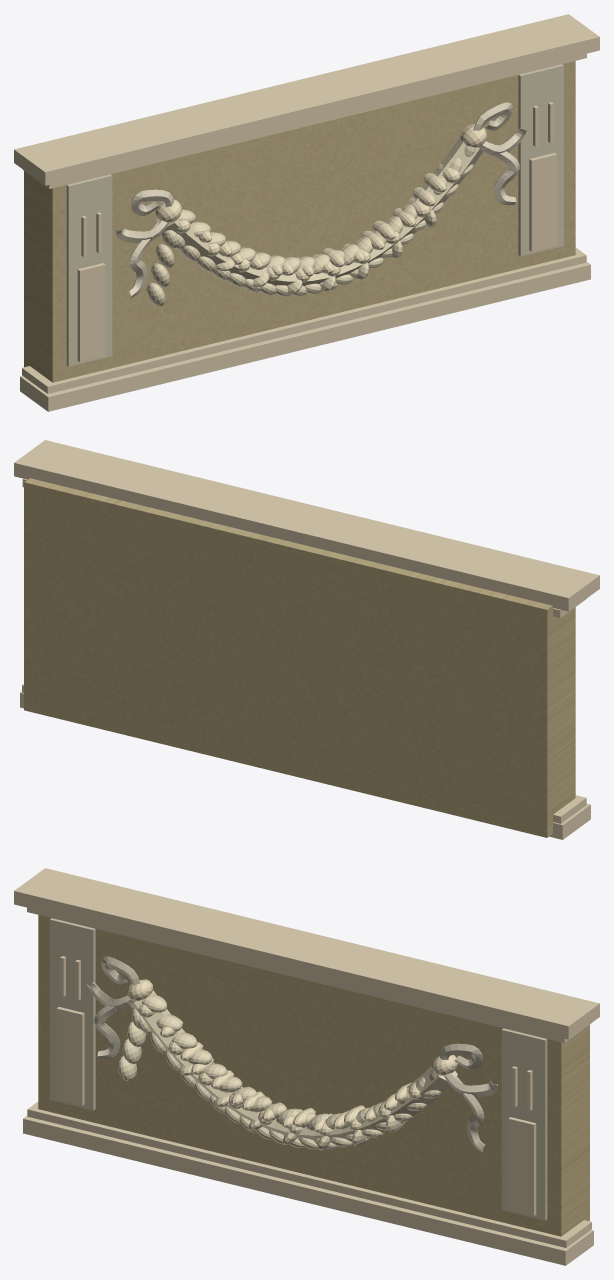
File: east-hanyang-205-garland-parapet-far.glb
3 views of the same model, one above another, from view 1: azimuth 30°, elevation 25°; view 2: azimuth 150°, elevation 25°; view 3: azimuth 330°, elevation 25° (orthographic).
Visible parts, largest first — view 1: 东汉阳路205号花园住宅右翼女儿墙花环垂饰; view 2: 东汉阳路205号花园住宅右翼女儿墙花环垂饰; view 3: 东汉阳路205号花园住宅右翼女儿墙花环垂饰.
Part boxes in pixels (bbox=[...]): 东汉阳路205号花园住宅右翼女儿墙花环垂饰: bbox=[14, 14, 599, 411]; 东汉阳路205号花园住宅右翼女儿墙花环垂饰: bbox=[14, 440, 599, 839]; 东汉阳路205号花园住宅右翼女儿墙花环垂饰: bbox=[14, 868, 599, 1265].
Size of the model in its own units: 2.8 by 1.17 by 0.396.
Materials: 6 (1 with a texture image).
